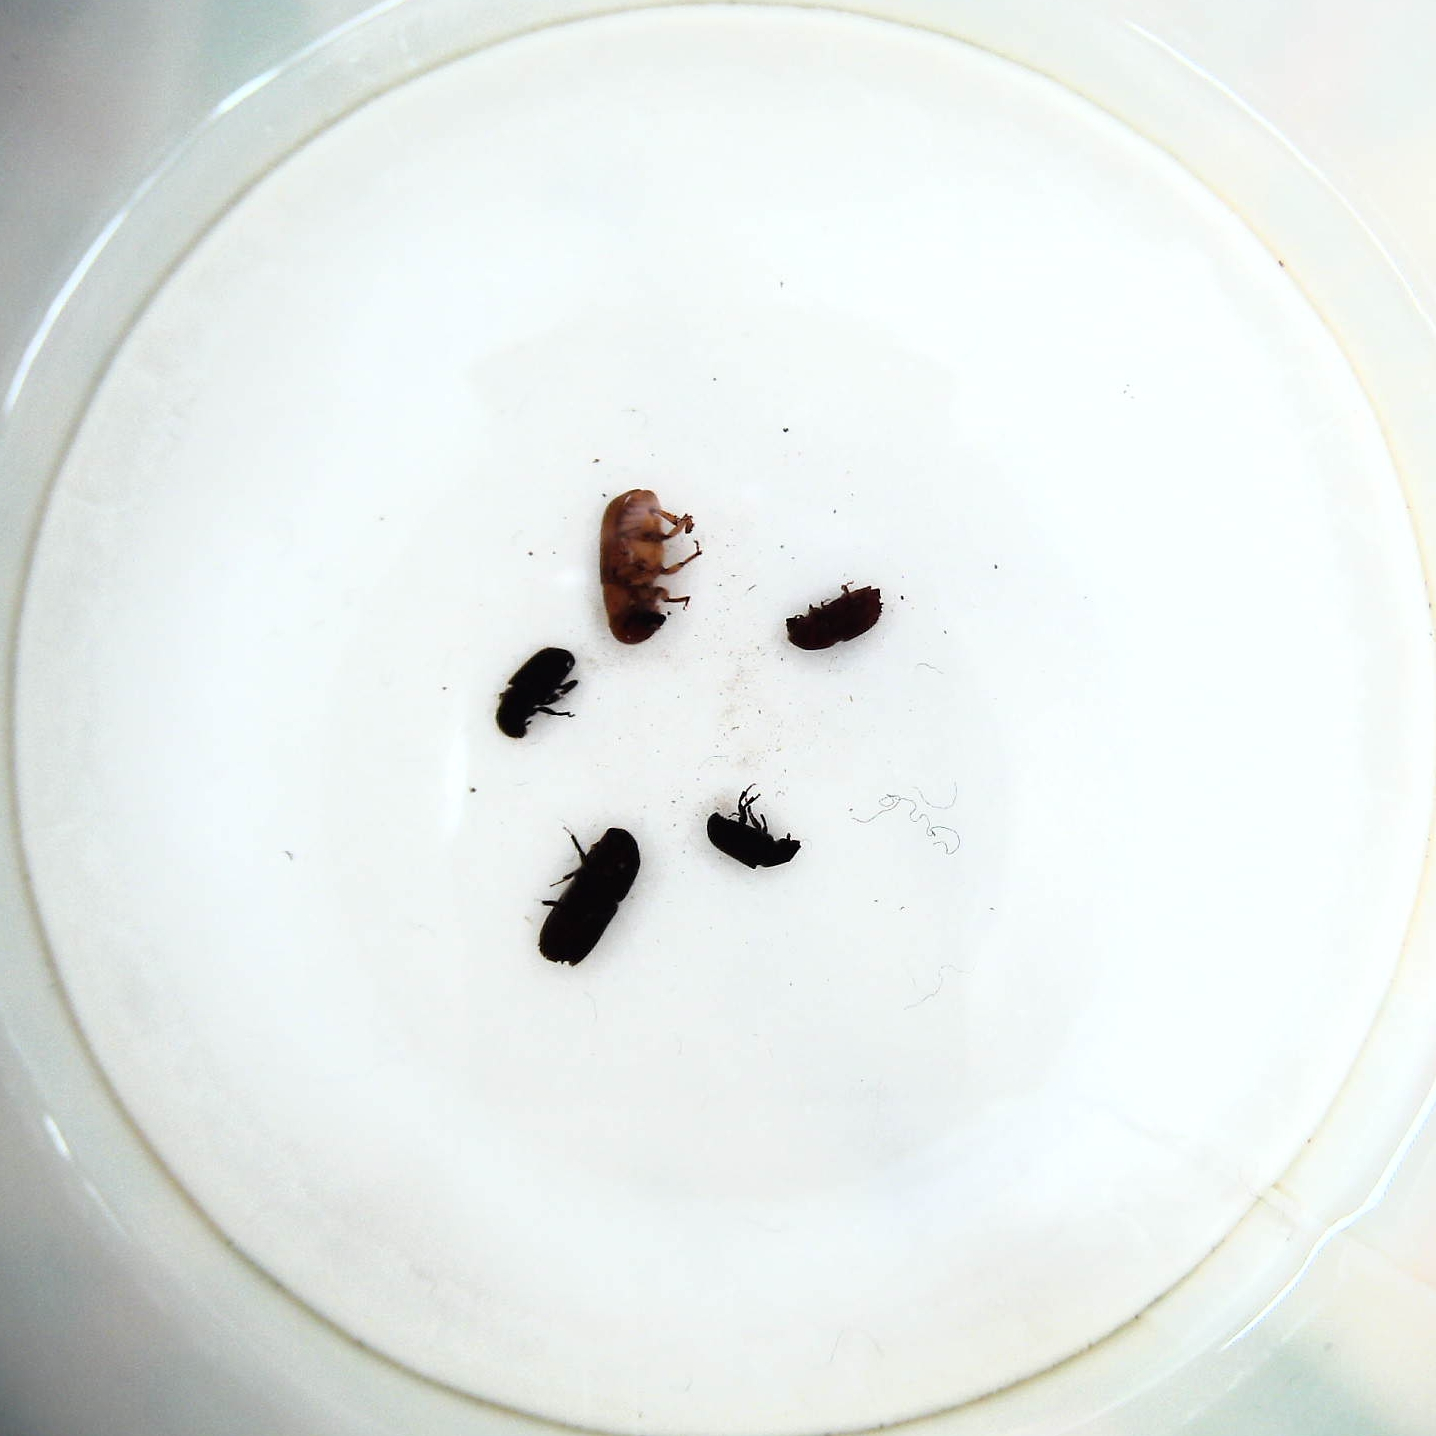Boerner: (533, 822, 644, 970)
Leconte: (597, 488, 706, 651)
armandi: (494, 646, 592, 740)
coleoptera: (704, 780, 809, 871)
linnaeus: (782, 573, 889, 654)
